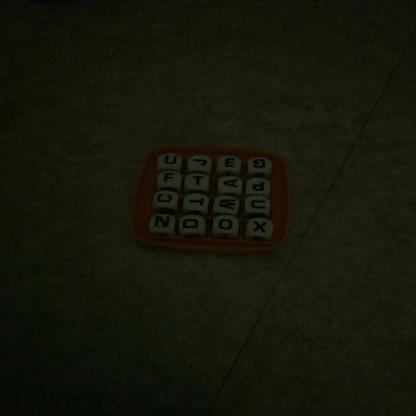a: (221, 177, 242, 192)
c: (154, 191, 177, 208)
d: (181, 217, 203, 233)
e: (221, 156, 242, 172)
f: (161, 172, 180, 186)
g: (250, 157, 272, 173)
j: (191, 156, 212, 171)
n: (151, 215, 175, 232)
o: (215, 217, 238, 233)
p: (249, 179, 270, 195)
t: (186, 195, 209, 212), (189, 173, 210, 189)
u: (247, 198, 271, 214), (161, 153, 182, 169)
w: (216, 197, 241, 214)
x: (249, 218, 273, 236)
